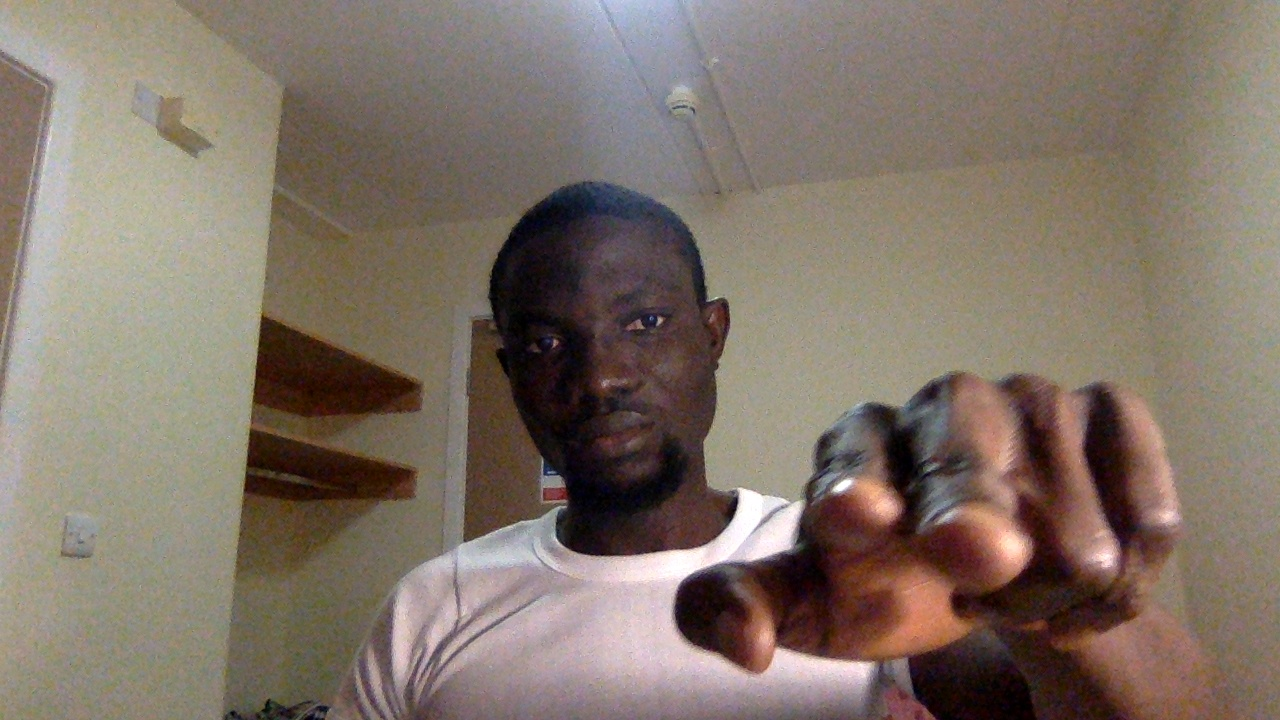No: (665, 352, 1195, 690)
